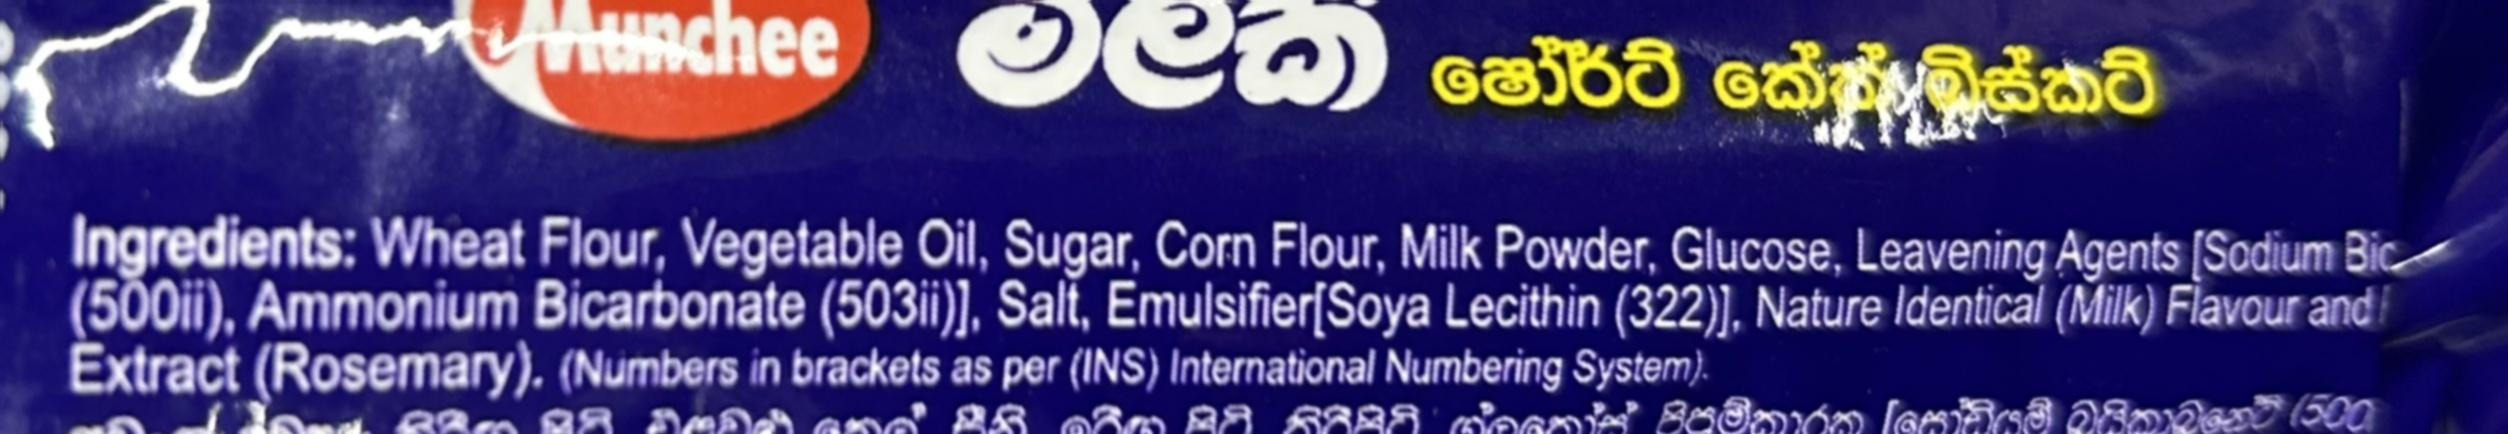ingredients: (40, 154, 2422, 389)
